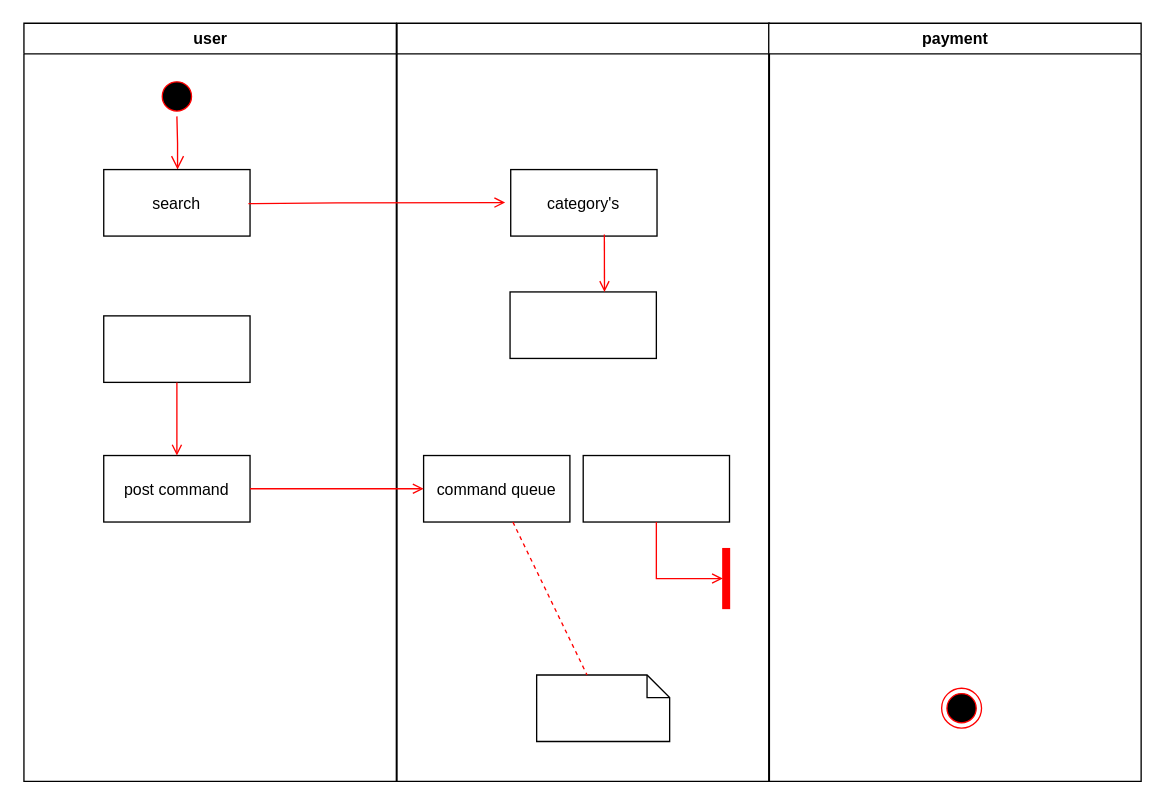
Image size: 1164x805. Some labels were removed from this diagram. The centre of each missing label's shape, as x and y in pixels:
"critical section" goes at [602,707].
"dispatch command worker thread" goes at [656,488].
"product" goes at [582,324].
